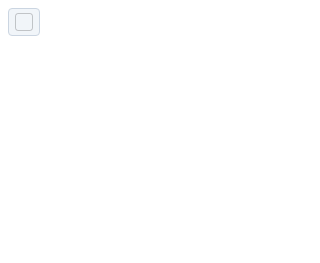
Test: Phase 8 UI: Fonts and Typography (Google-Docs-Style) › Task 8.10: ColorPickerPopover (Text Color & Highlight Color) › selects color from palette swatch and adjusts opacity slider
Later steps or results of the test are not shown.
What coordinates should you click on to do the following:
click the button with test id "btn-color-picker-text-color"
I would click on:
 (24, 22)
Its box is [8,8,40,36].
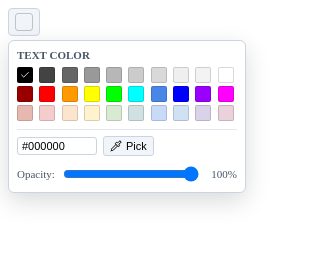
Result: the element with test id "color-picker-dropdown" is shown at [8,40,246,193]
Result: the button with test id "palette-color-ff0000" is shown
What coordinates should you click on to do the following:
click the button with test id "palette-color-ff0000"
I would click on:
 (47, 94)
Its box is [39,86,55,102].
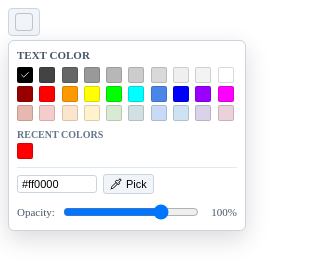
Result: the slider with test id "input-opacity-slider" is shown at [63,204,199,220]
